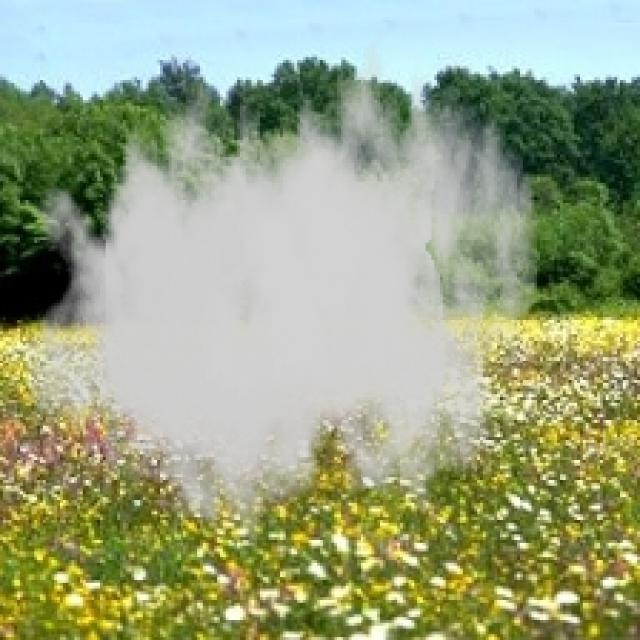smoke: (23, 17, 540, 554)
